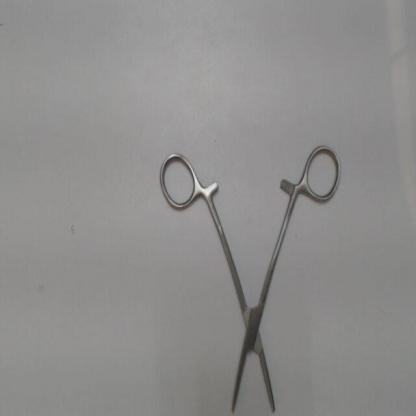Mayo Needle Holder: (153, 138, 346, 414)
